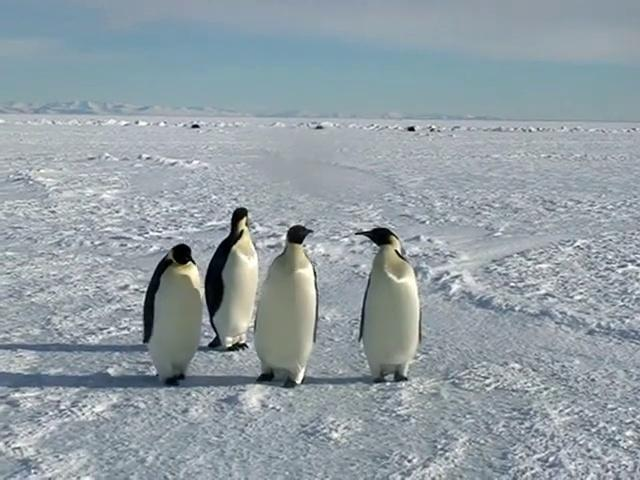animal: (356, 228, 420, 382)
